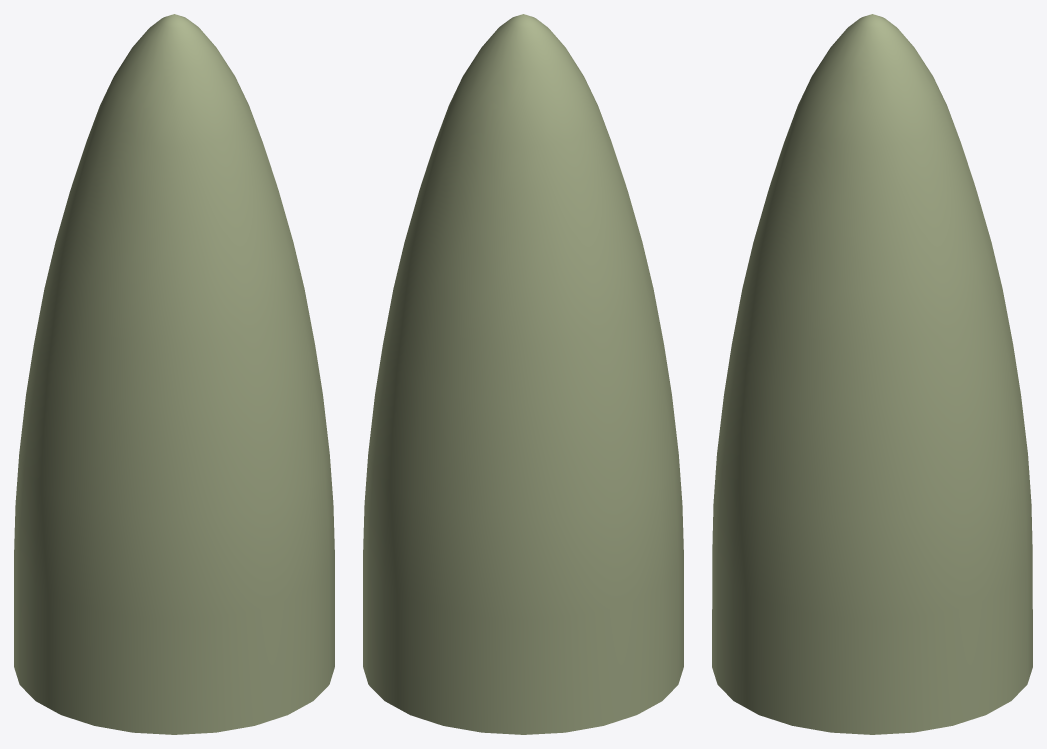
The model's file is YuccaGloriosa.glb.
The picture shows the model from 3 angles, left to right: view 1: azimuth 30°, elevation 25°; view 2: azimuth 150°, elevation 25°; view 3: azimuth 270°, elevation 25°; orthographic projection.
Parts seen in each view (by area): view 1: Sea_Islands_Yucca__Schematic_LOD3; view 2: Sea_Islands_Yucca__Schematic_LOD3; view 3: Sea_Islands_Yucca__Schematic_LOD3.
Boxes of the visible parts, box(x1,y1,x2,y2) form: Sea_Islands_Yucca__Schematic_LOD3: box(14, 14, 334, 734); Sea_Islands_Yucca__Schematic_LOD3: box(363, 14, 683, 734); Sea_Islands_Yucca__Schematic_LOD3: box(712, 14, 1032, 734).
Size of the model in its own units: 1.1 by 2.47 by 1.1.
